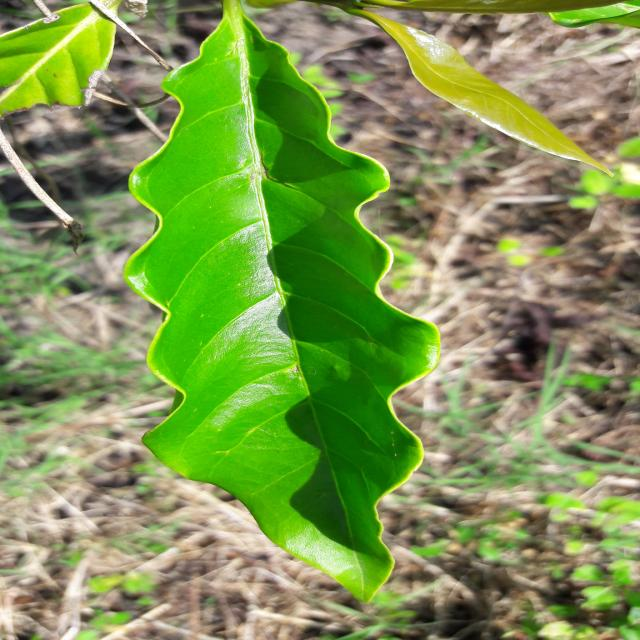Sanas: (121, 0, 439, 605)
